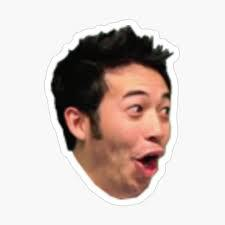poggers: (53, 28, 172, 199)
